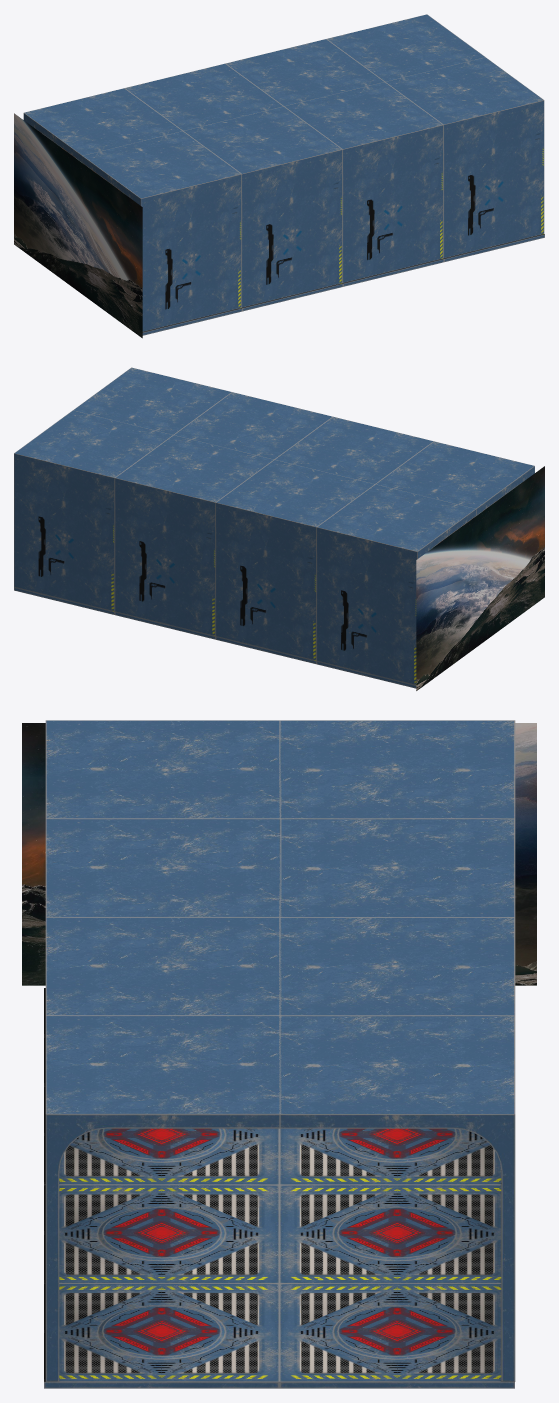
Rendered from corredor.glb.
The picture shows the model from 3 angles, top to bottom: view 1: azimuth 30°, elevation 25°; view 2: azimuth 150°, elevation 25°; view 3: azimuth 270°, elevation 25°; orthographic projection. The views are drawn at different scales.
Visible parts, largest first — view 1: Object_4, Object_13; view 2: Object_4, Object_13; view 3: Object_4, Object_13.
Part boxes in pixels (x1,y1,x2,y2): Object_4: (23, 14, 544, 335); Object_13: (14, 113, 142, 338); Object_4: (14, 367, 534, 688); Object_13: (416, 466, 544, 690); Object_4: (44, 720, 515, 1388); Object_13: (22, 723, 536, 985).
Size of the model in its own units: 8.32 by 2.67 by 4.55.
Materials: 2 (2 with a texture image).
